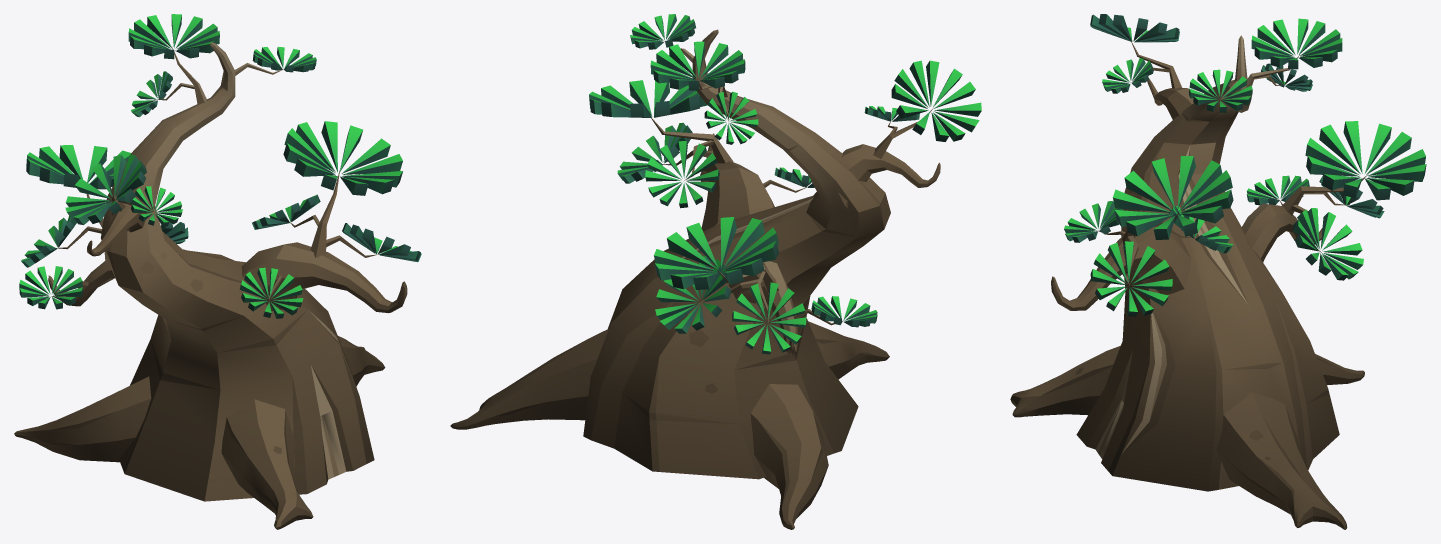
File: ancient_tree_2.001.glb
The picture shows the model from 3 angles, left to right: view 1: azimuth 30°, elevation 25°; view 2: azimuth 150°, elevation 25°; view 3: azimuth 270°, elevation 25°; orthographic projection. The views are drawn at different scales.
Visible parts, largest first — view 1: ancient_tree_2.001; view 2: ancient_tree_2.001; view 3: ancient_tree_2.001.
Boxes of the visible parts, <box> form: ancient_tree_2.001: <box>14,14,421,529</box>; ancient_tree_2.001: <box>450,14,981,529</box>; ancient_tree_2.001: <box>1010,14,1426,529</box>.
Bounding box in the file's own units: 6.05 × 5.9 × 5.48.
1 material, 1 textured.
